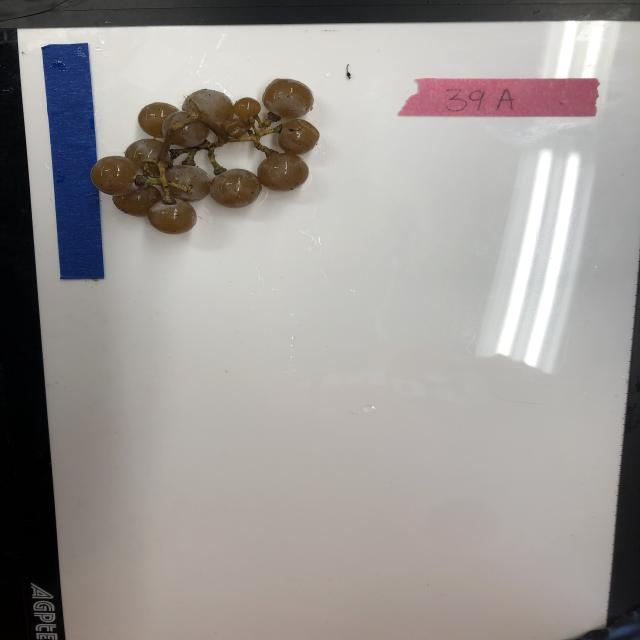grape_cluster: (87, 76, 322, 238)
index: (395, 76, 605, 120)
measure_label: (40, 42, 106, 283)
